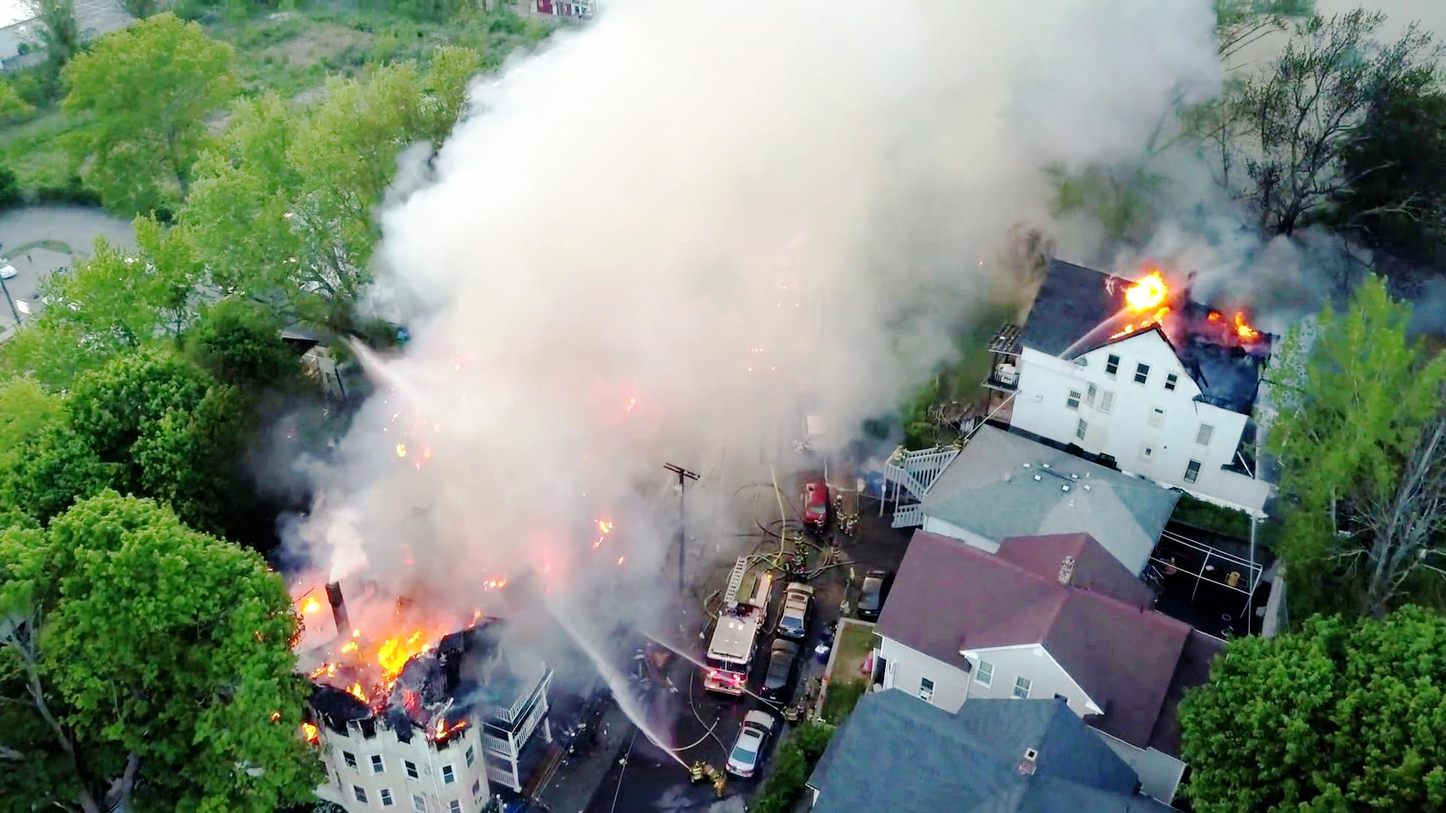fire: (367, 595, 438, 663), (1129, 258, 1172, 306)
smoke: (537, 13, 1075, 208), (478, 248, 668, 449)
